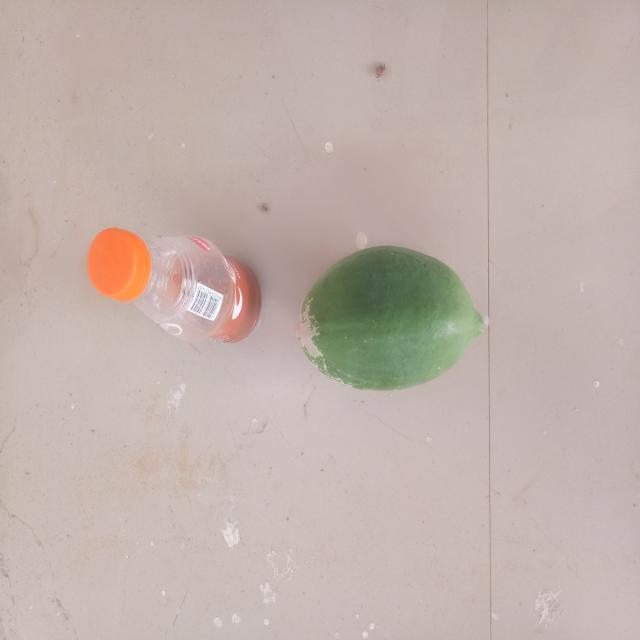Pepaya unrippen: (292, 243, 482, 392)
